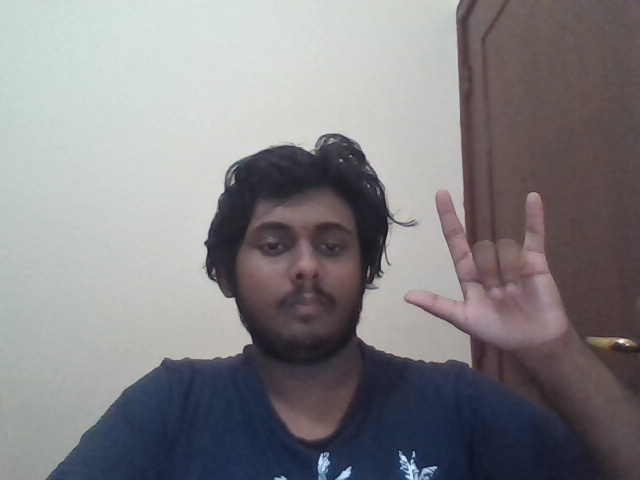iloveyou: (404, 189, 579, 349)
